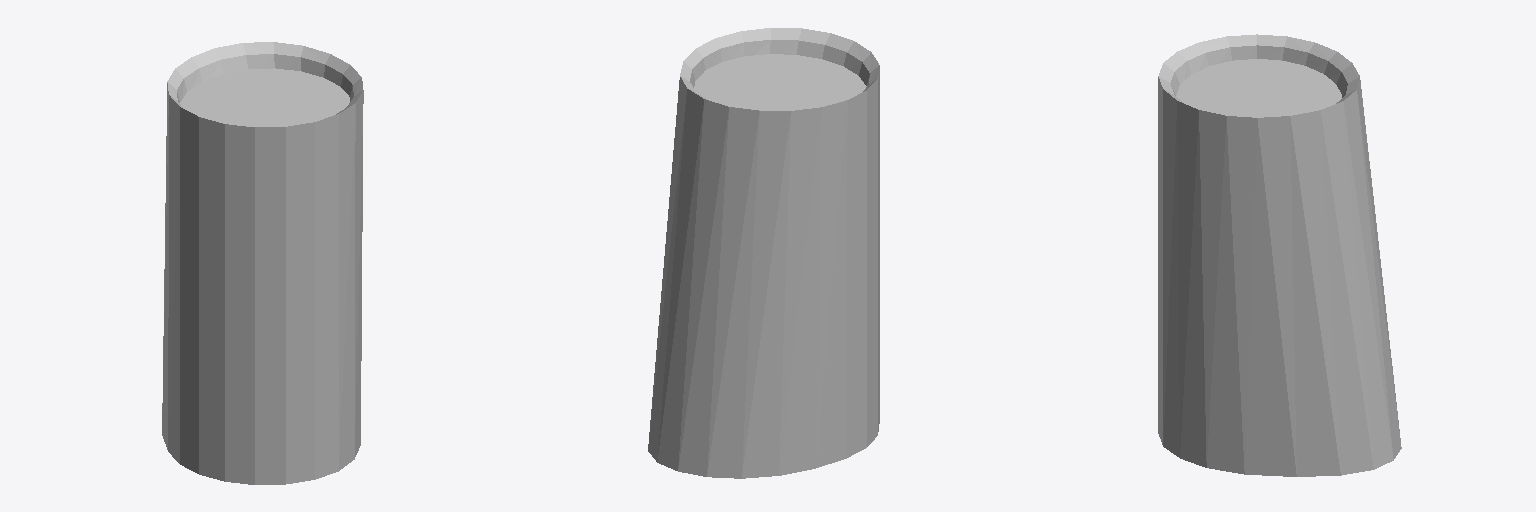
The model's file is eye vase.obj.
The picture shows the model from 3 angles: view 1: azimuth 30°, elevation 25°; view 2: azimuth 150°, elevation 25°; view 3: azimuth 270°, elevation 25°; orthographic projection.
Visible parts, largest first — view 1: eye vase; view 2: eye vase; view 3: eye vase.
Part boxes in pixels (x1,y1,x2,y2): eye vase: (162,42,363,484); eye vase: (648,28,879,478); eye vase: (1158,34,1401,476).
Size of the model in its own units: 1.02 by 2 by 1.23.